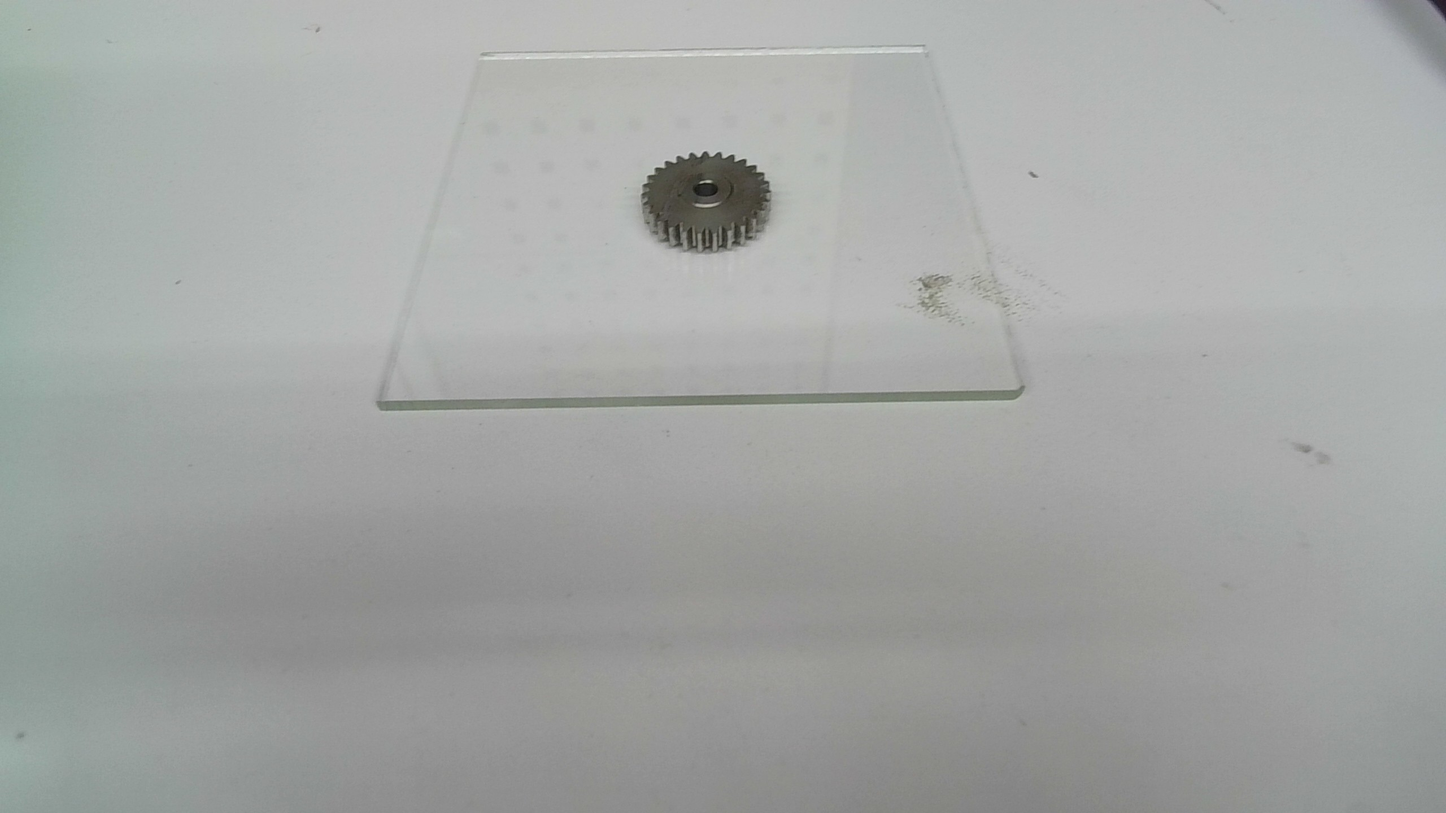gear: (638, 151, 774, 256)
